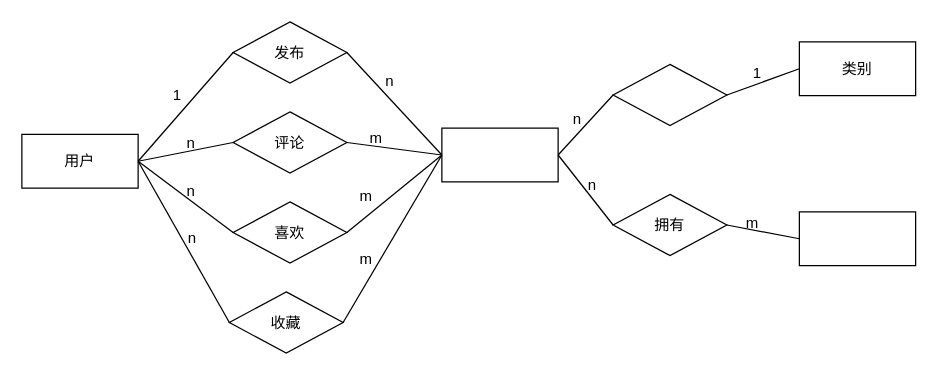
Some shapes in this 938 by 375 pixel diagram are drawn without their labels. Each missing label, with the centre of its shape:
属于: pixel 669 94
标签: pixel 857 238
视频: pixel 499 154
